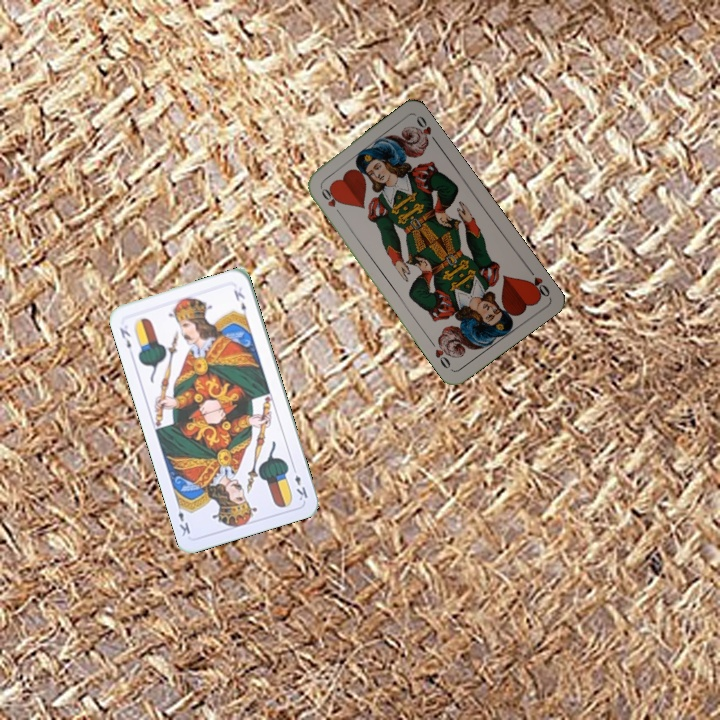EK: (288, 462, 310, 503), (115, 323, 134, 351)
HO: (524, 264, 552, 301), (316, 182, 344, 218)
